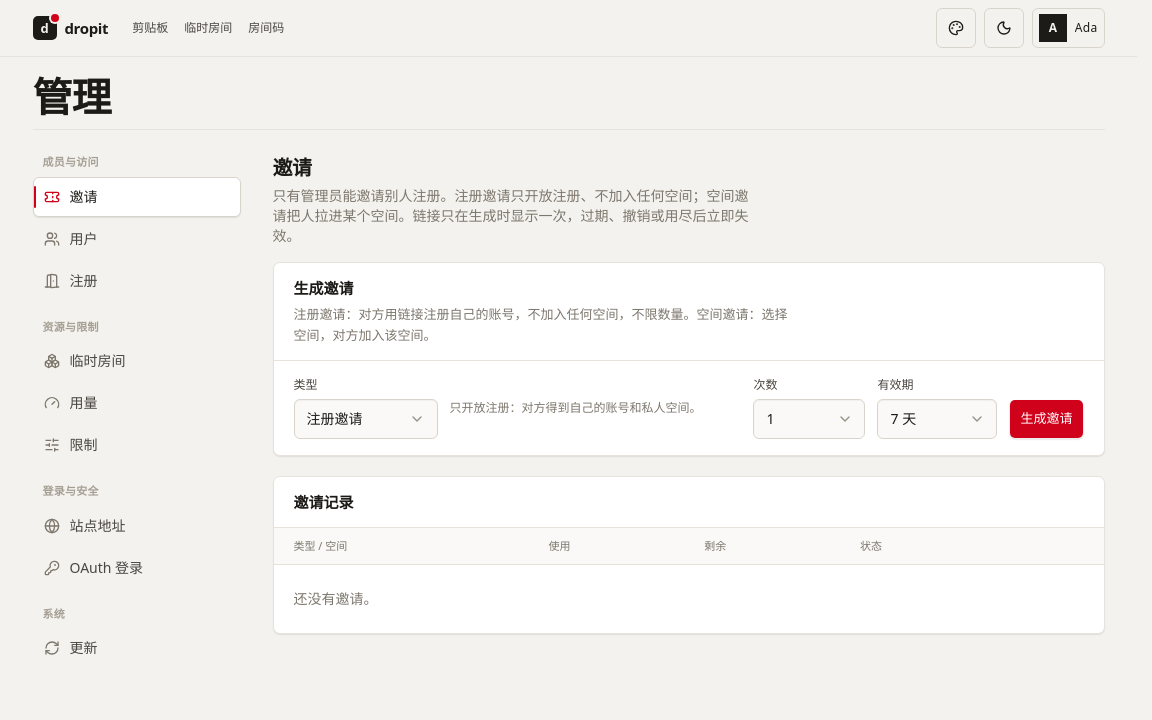
Test case: AC-O7/O8 admin limits › keeps an illegal value off the server and shows the backend error
Click the tab "限制".
click(136, 445)  # box [32,425,240,465]
(page scrolled)
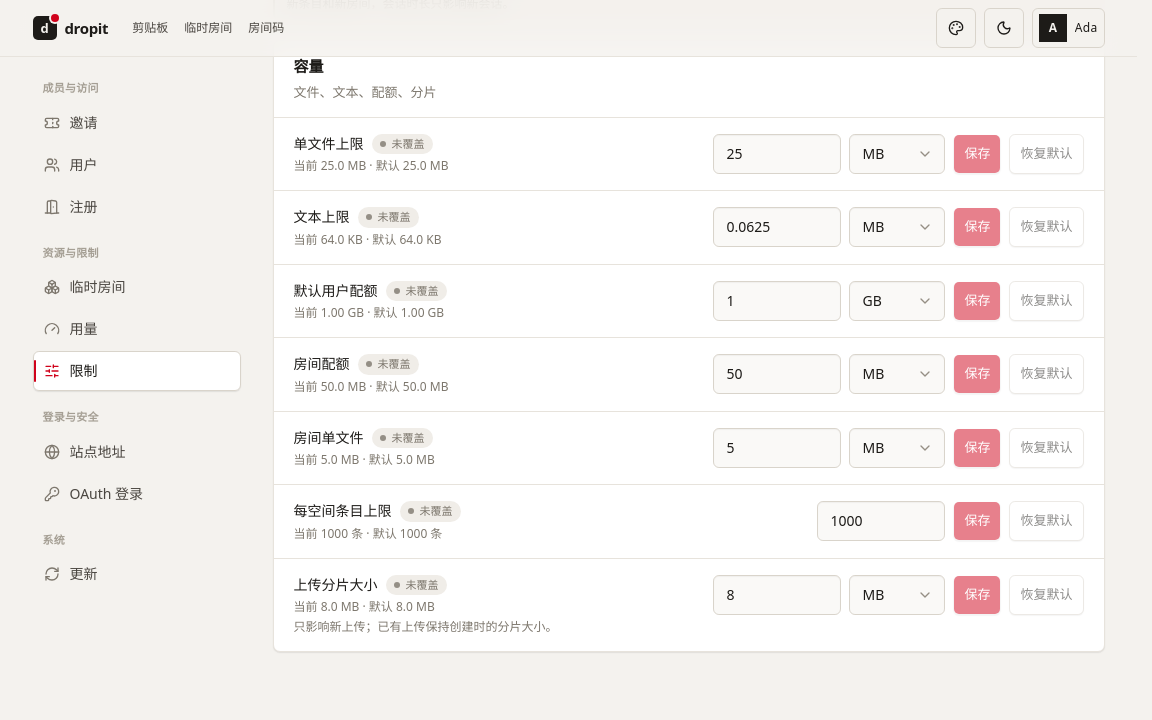
Replace the text in the field labelled "每空间条目上限" with "100001" at [882, 521], box [818,501,946,541]
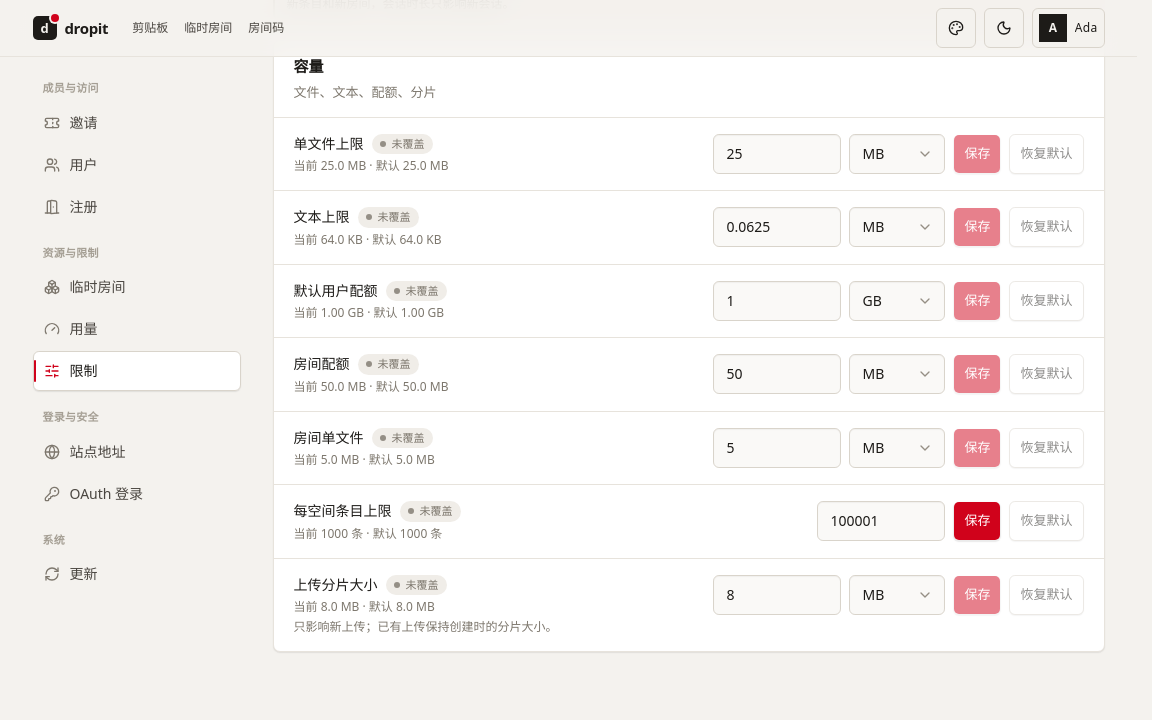
Click the button "保存" in the row of "每空间条目上限".
click(978, 521)  # box [954,501,1002,541]
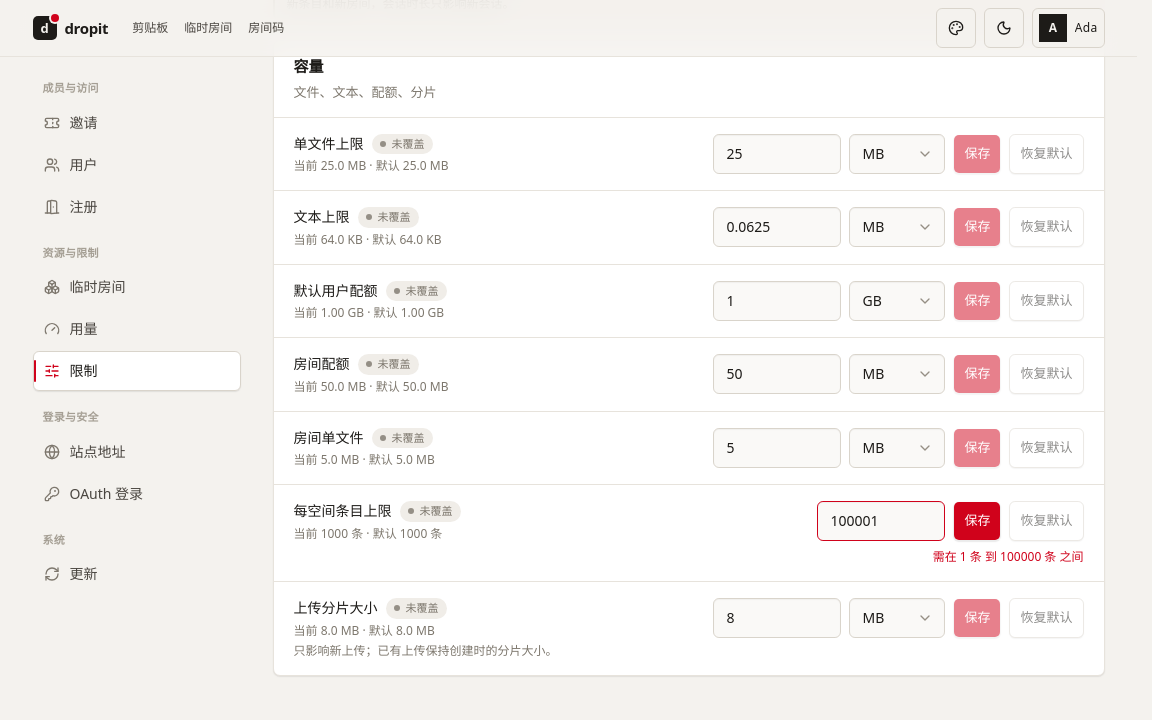
Check: the message shows "需在", box [933,548,1084,565]
Replace the text in the field labelled "每空间条目上限" with "12" at [882, 521], box [818,501,946,541]
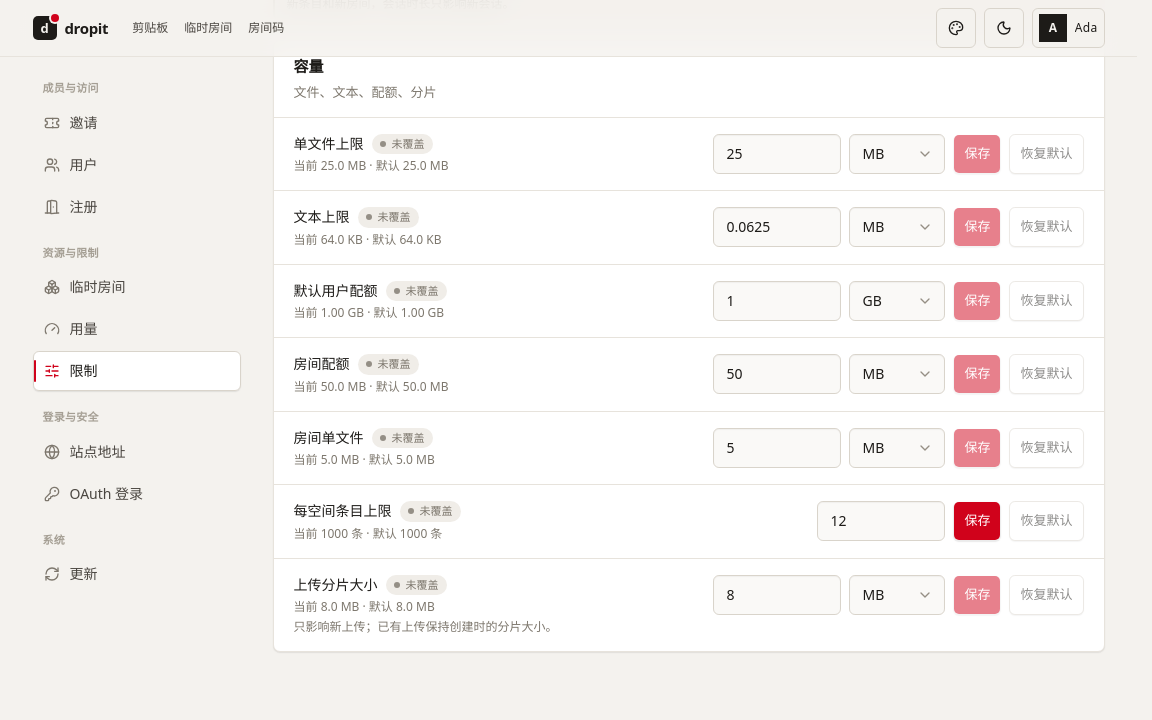
Click the button "保存" in the row of "每空间条目上限".
click(978, 521)  # box [954,501,1002,541]
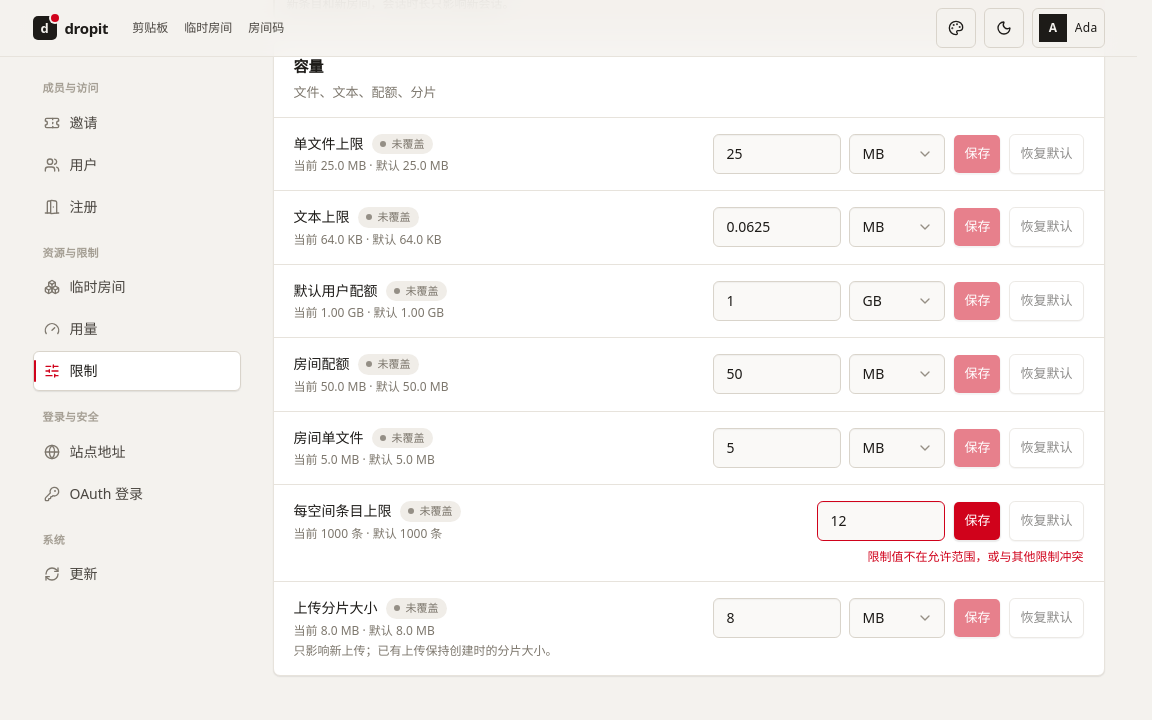
Check: the text "未覆盖" is shown, box [400,501,460,522]
Check: the message shows "限制值不在允许范围", box [868,548,1084,565]
